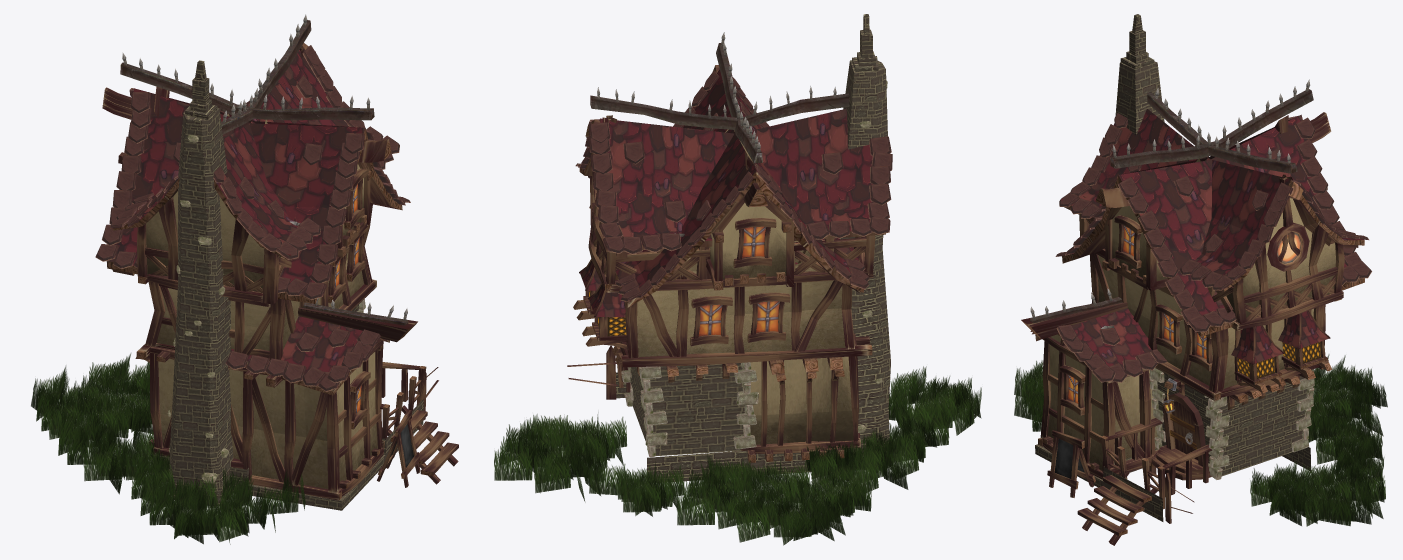
File: v_house_a.glb
The picture shows the model from 3 angles, left to right: view 1: azimuth 30°, elevation 25°; view 2: azimuth 150°, elevation 25°; view 3: azimuth 270°, elevation 25°; orthographic projection. The views are drawn at different scales.
Visible parts, largest first — view 1: Object_24, Object_8, Object_18, Object_5, Object_26, Object_6, Object_36; view 2: Object_26, Object_24, Object_5, Object_8, Object_18, Object_6, Object_28; view 3: Object_24, Object_8, Object_5, Object_26, Object_18, Object_6, Object_36, Object_7.
Boxes of the visible parts, x1,y1,x2,y2 form: Object_24: (102,43,458,500); Object_8: (95,14,410,483); Object_18: (154,60,423,510); Object_5: (107,45,365,373); Object_26: (31,353,305,544); Object_6: (146,114,377,489); Object_36: (377,409,420,487); Object_26: (494,366,981,545); Object_24: (573,65,885,462); Object_5: (580,69,886,317); Object_8: (575,32,892,457); Object_18: (616,14,890,481); Object_6: (637,129,853,444); Object_28: (567,345,617,399); Object_24: (1021,112,1364,545); Object_8: (1029,79,1371,479); Object_5: (1061,108,1363,368); Object_26: (1014,354,1387,526); Object_18: (1035,14,1310,521); Object_6: (1047,158,1335,470); Object_36: (1047,430,1095,497); Object_7: (1054,438,1084,478).
Bounding box in the file's own units: 1241 × 1539 × 1245.
10 materials, 8 textured.
